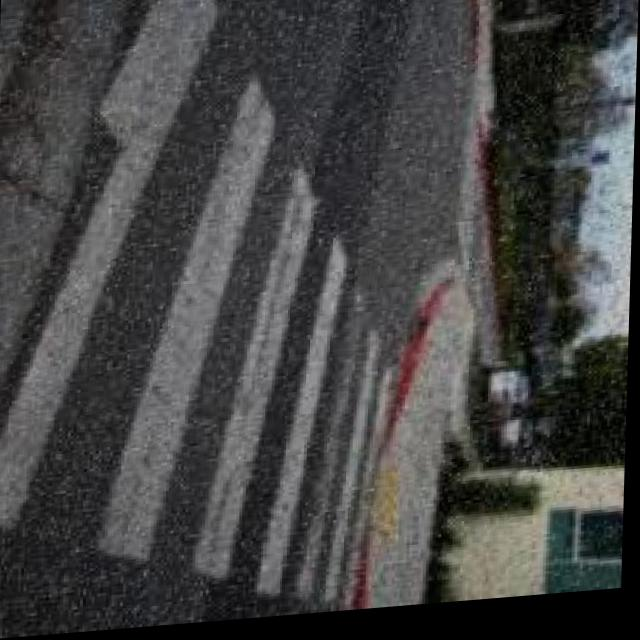zebra: (54, 124, 405, 635), (448, 116, 481, 273)
